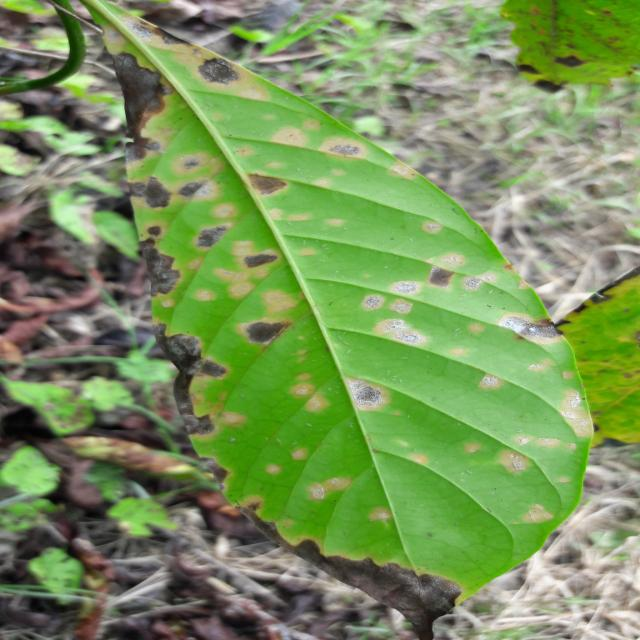Enfermedad-Roya: (118, 27, 596, 599)
